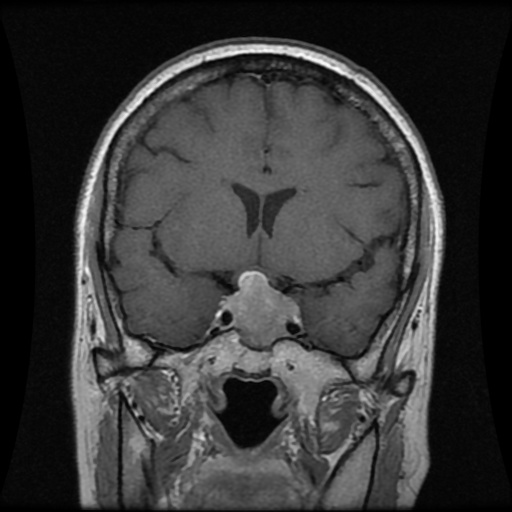pituitary: (228, 271, 298, 344)
